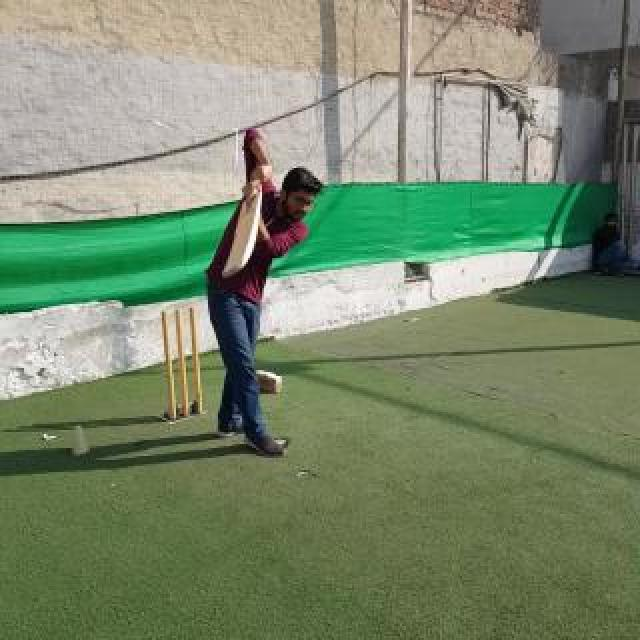bat: (222, 166, 264, 280)
